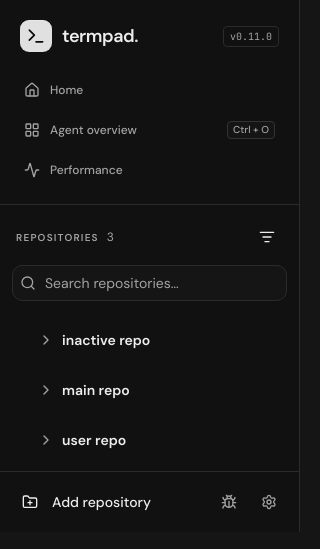
Scenario: Sidebar active repository filter › toggles and saves the filter, counting tabs in either terminal panel
Expected: the text "inactive repo" is shown, [62, 331, 150, 349]
Click the button named "Only show active repositories" at [267, 237], box [251, 221, 283, 253]
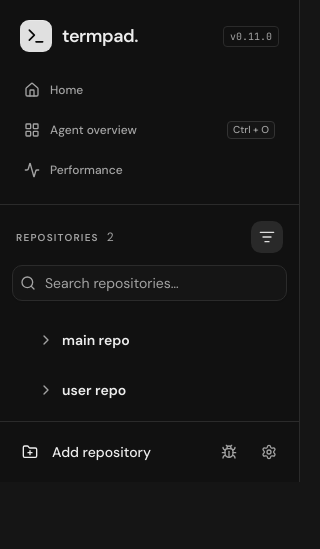
Expected: the text "main repo" is shown, [62, 331, 130, 349]
Expected: the text "inactive repo" is gone
Click the button named "Only show active repositories" at [267, 237], box [251, 221, 283, 253]
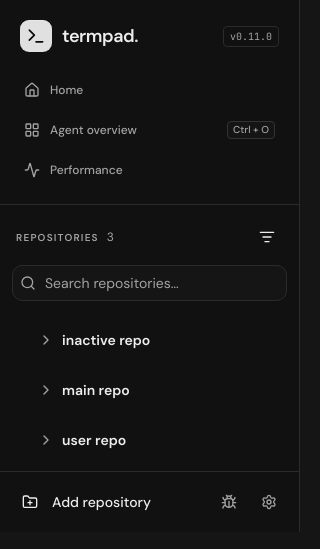
Expected: the text "inactive repo" is shown, [62, 331, 150, 349]
